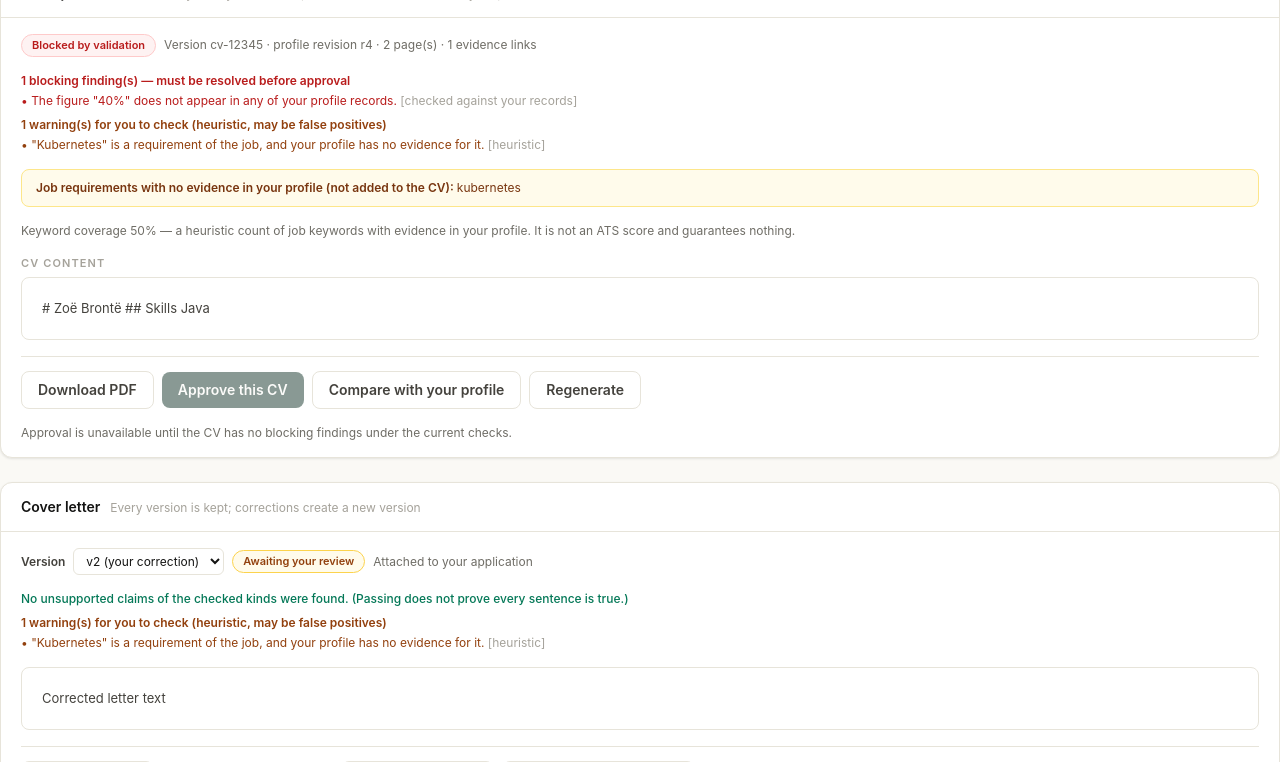
Test: PrepWorkspace › downloads the CV through the authenticated, checksum-verified client
The width and height of the screenshot is (1280, 762).
(page scrolled)
Click the button "Download PDF" below "# Zoë Brontë ## Skills Java" at (87, 390), box [21,371,154,409]
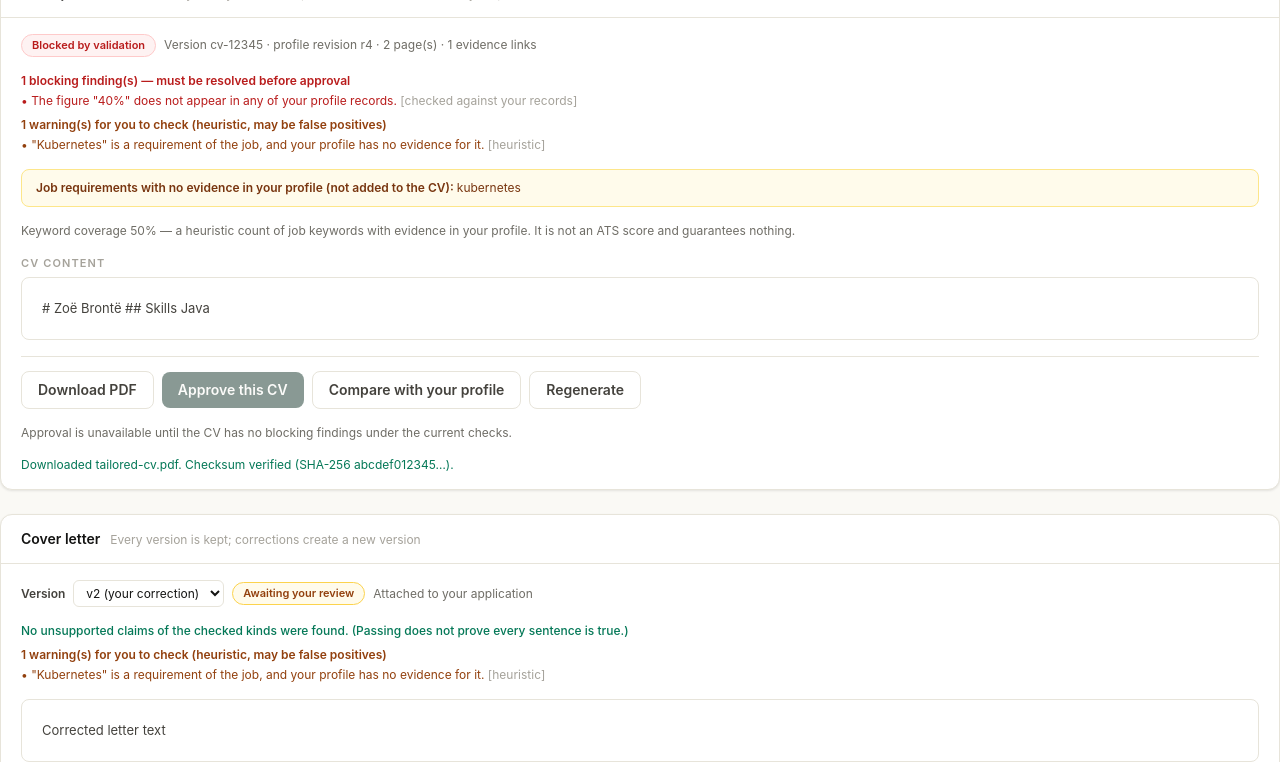
Result: the text "Downloaded tailored-cv.pdf. Checksum verified (SHA-256 abcdef012345…)." is shown at [21,457,454,472]
